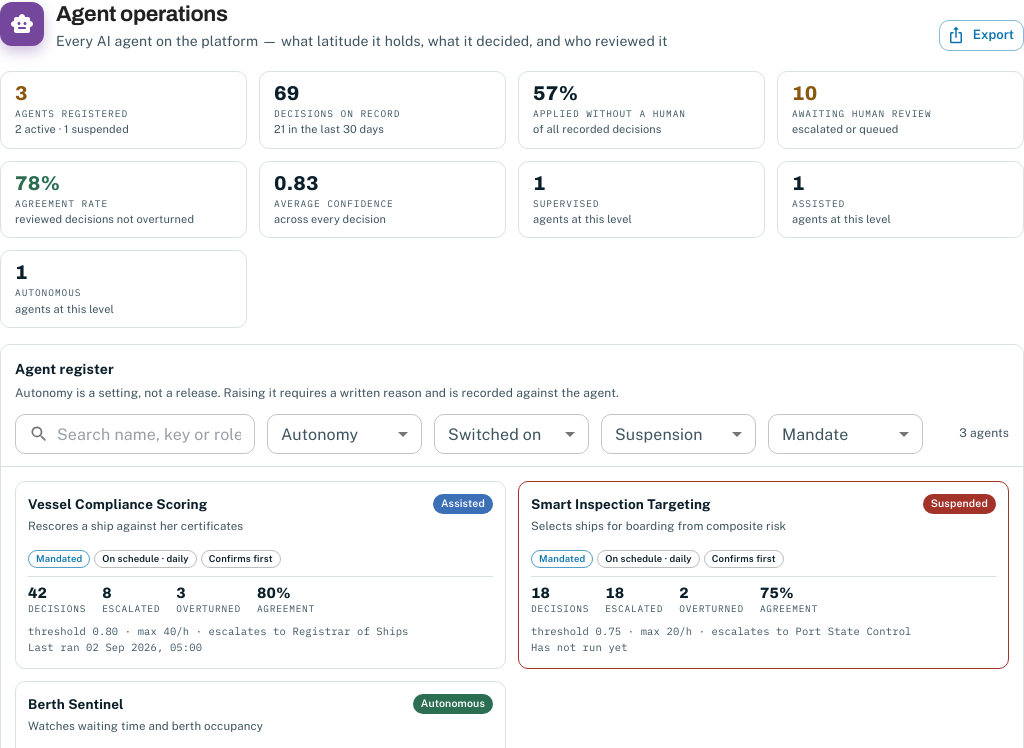
Test: Agent operations — the roster › opens an agent with its governance history, recent decisions and a manual run
What coordinates should you click on to do the following:
click the button with aria-label "Open Vessel Compliance Scoring"
I would click on:
 (118, 504)
Its box is 15,481 -> 506,669.
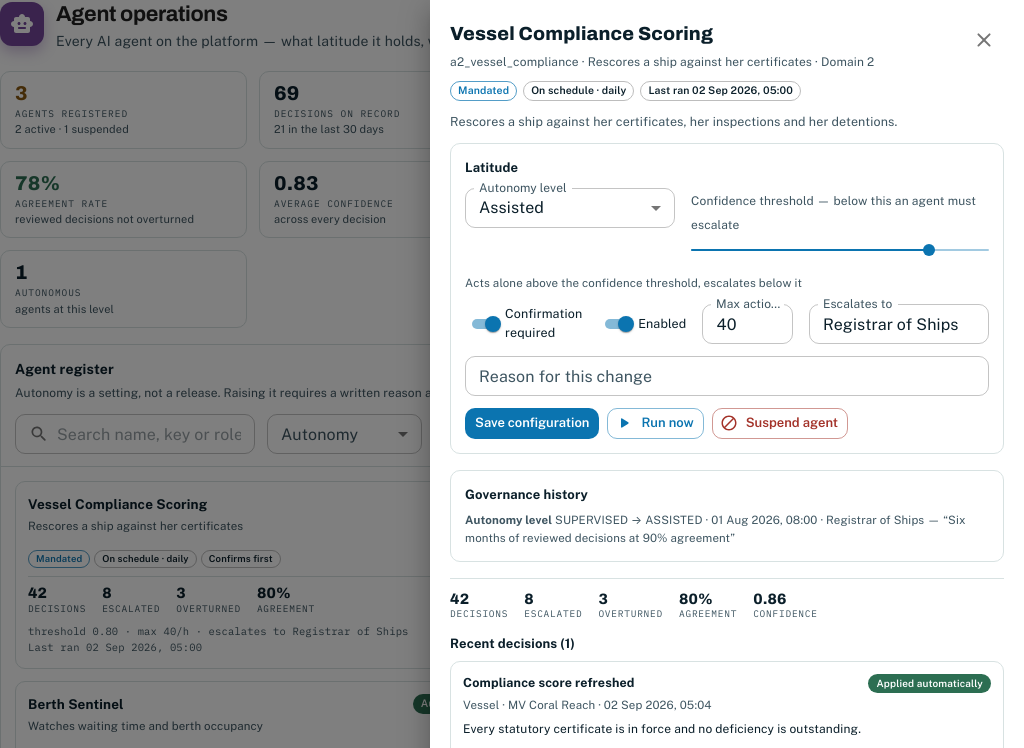
Now the text "Governance history" is shown, box 465,487 -> 588,502
Now the element that starts with "Autonomy level" is shown, box 465,512 -> 989,547
Now the text "Recent decisions (1)" is shown, box 450,636 -> 575,650
What coordinates should you click on to do the following:
click the button "Run now"
I would click on:
 (656, 423)
Its box is 608,408 -> 704,439.
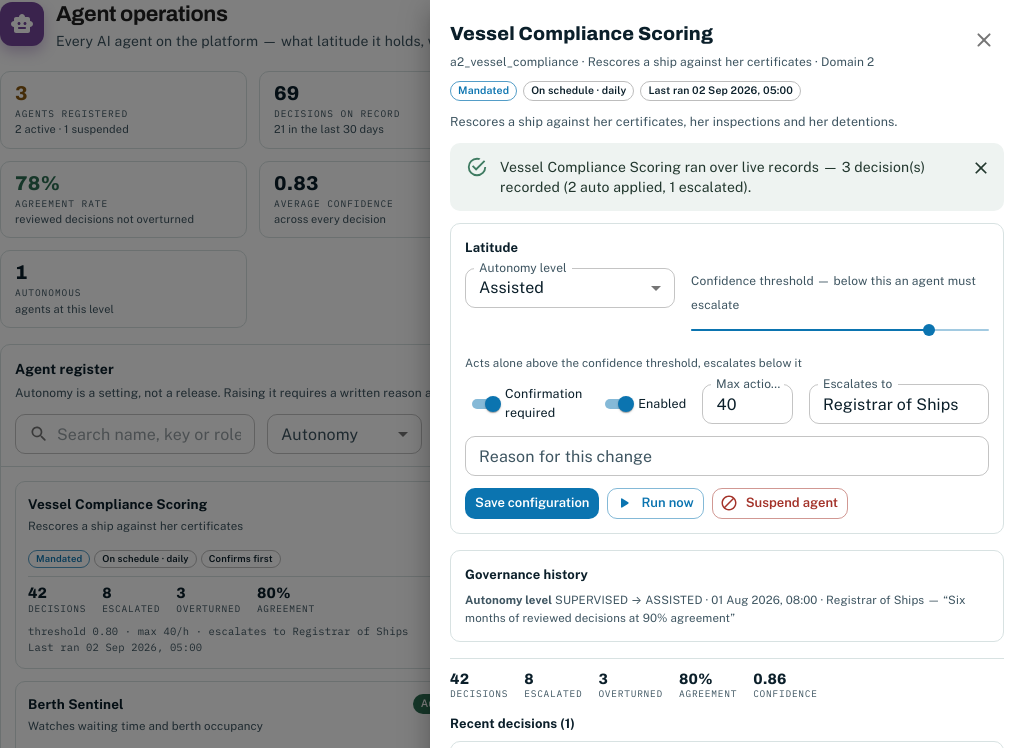
Now the text "Vessel Compliance Scoring ran over live records — 3 decision(s) recorded (2 auto applied, 1 escalated)." is shown, box 500,159 -> 925,195
